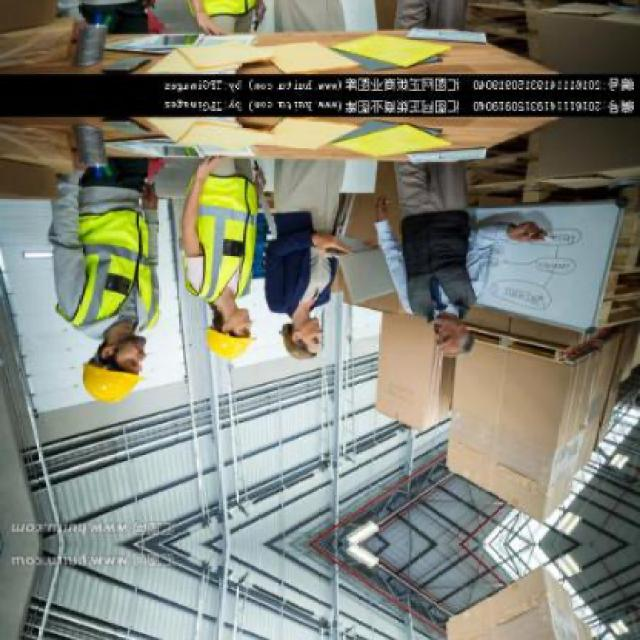con casco: (61, 323, 153, 418), (188, 281, 268, 362)
sin casco: (395, 293, 499, 360), (270, 302, 330, 371)
